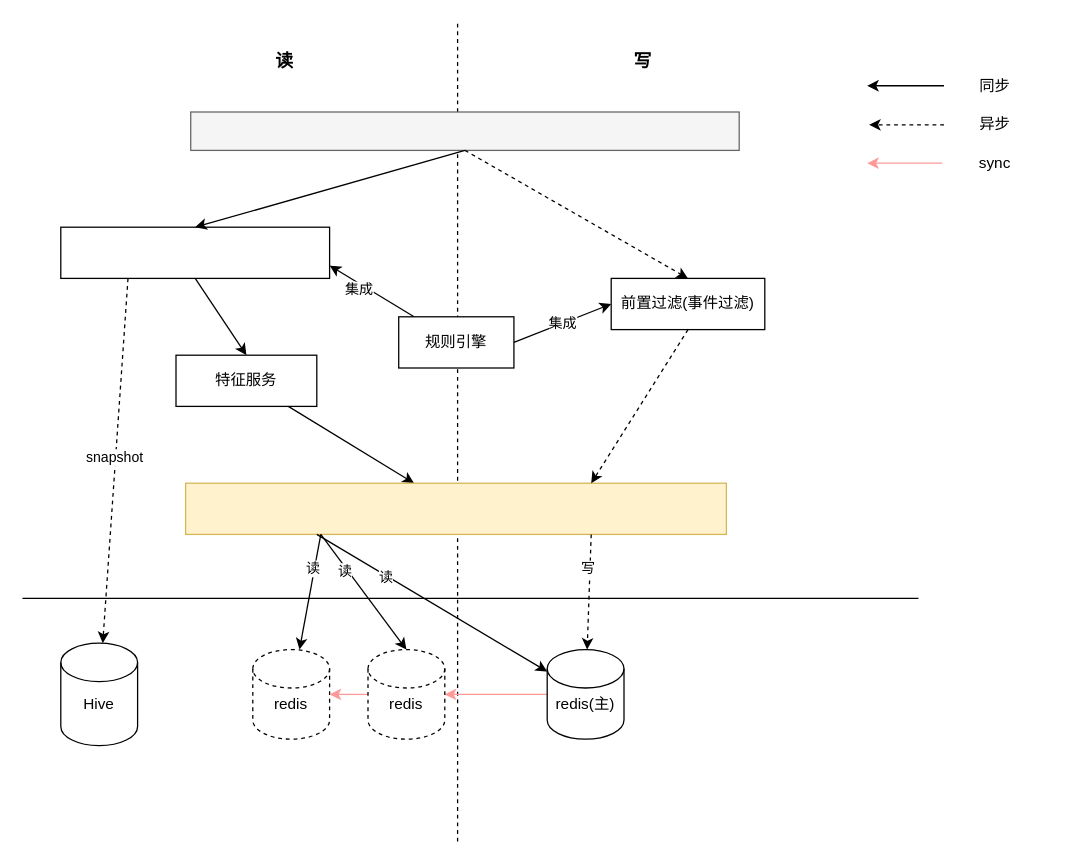
The diagram is 1076 pixels wide and 865 high, and some of its shapes have lost their labels. The shapes that lost their labels are listed below. From the top down, each one's centre as x and y in pixels, then its label:
point 464,130: 事件接入
point 195,252: 策略引擎(atlas)
point 455,508: 实时累积引擎
